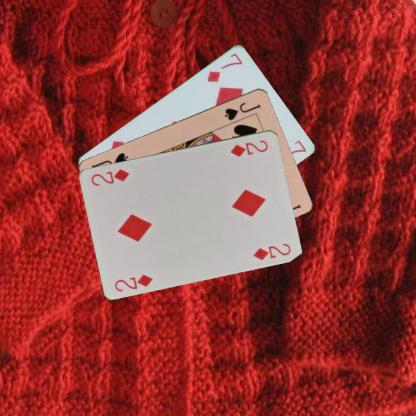2d: (112, 271, 154, 292), (228, 137, 269, 158)
7d: (204, 50, 244, 84)
Js: (222, 100, 262, 122)
